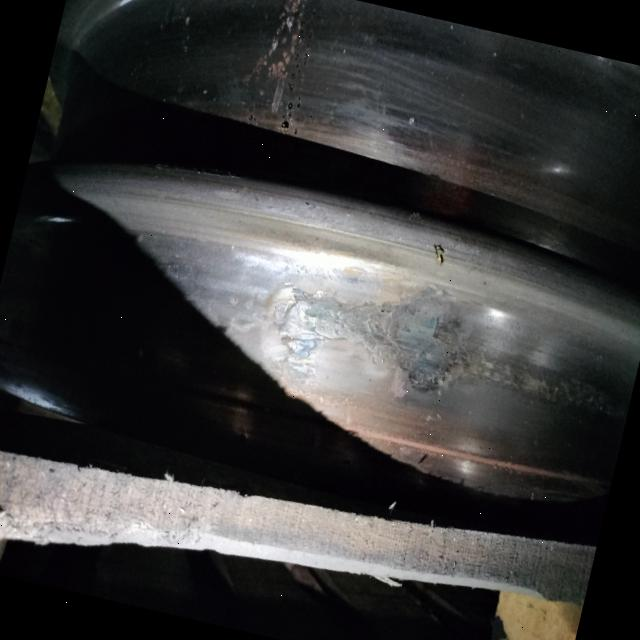flat: (240, 257, 586, 442)
